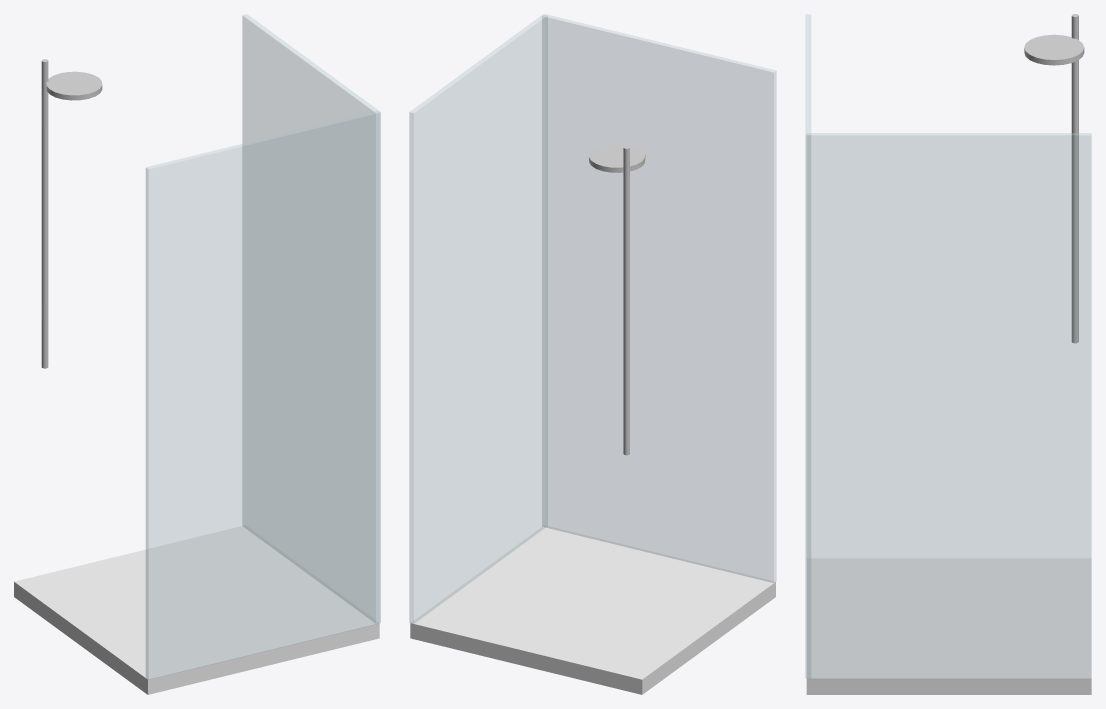
File: shower.glb
3 renders of one model, left to right at view 1: azimuth 30°, elevation 25°; view 2: azimuth 150°, elevation 25°; view 3: azimuth 270°, elevation 25°, orthographic. The views are drawn at different scales.
Visible parts, largest first — view 1: shower; view 2: shower; view 3: shower.
Boxes of the visible parts, bbox=[...] form: shower: bbox=[14, 14, 380, 694]; shower: bbox=[409, 14, 776, 694]; shower: bbox=[805, 14, 1091, 694].
Bounding box in the file's own units: 0.955 × 2.1 × 0.955.
